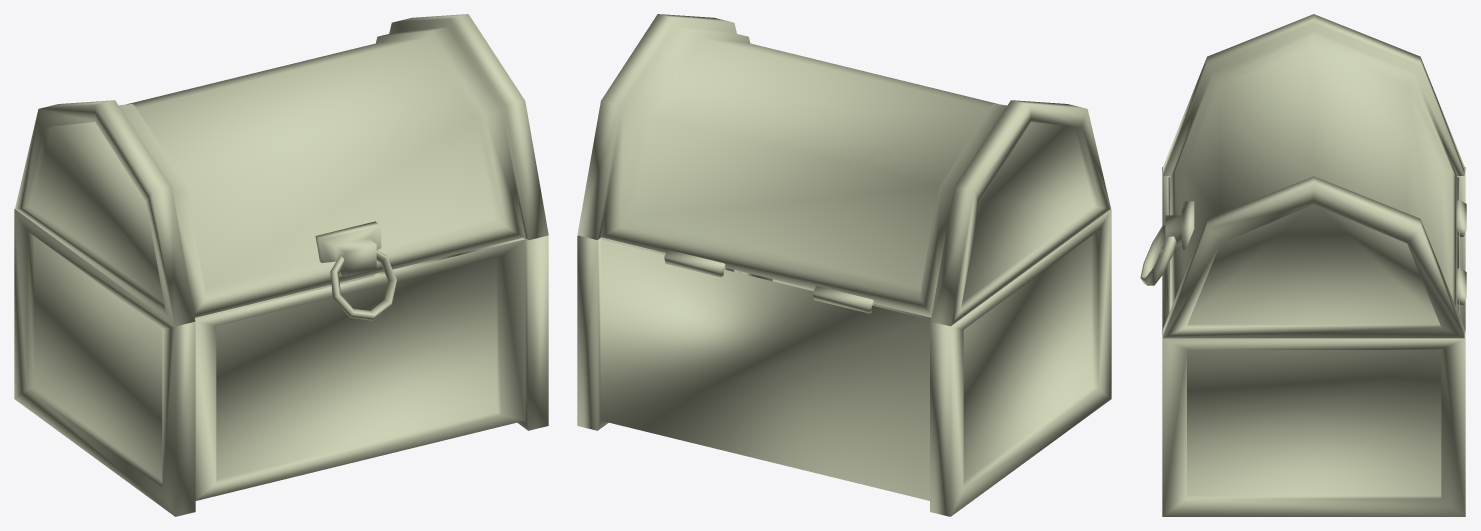
Rendered from chest.obj.
3 views of the same model, side by side, from view 1: azimuth 30°, elevation 25°; view 2: azimuth 150°, elevation 25°; view 3: azimuth 270°, elevation 25° (orthographic). The views are drawn at different scales.
Parts seen in each view (by area): view 1: STL object; view 2: STL object; view 3: STL object.
Boxes of the visible parts, box(x1,y1,x2,y2) form: STL object: box(14, 14, 548, 516); STL object: box(577, 14, 1111, 516); STL object: box(1140, 14, 1466, 516).
Size of the model in its own units: 2 by 1.81 by 1.61.
